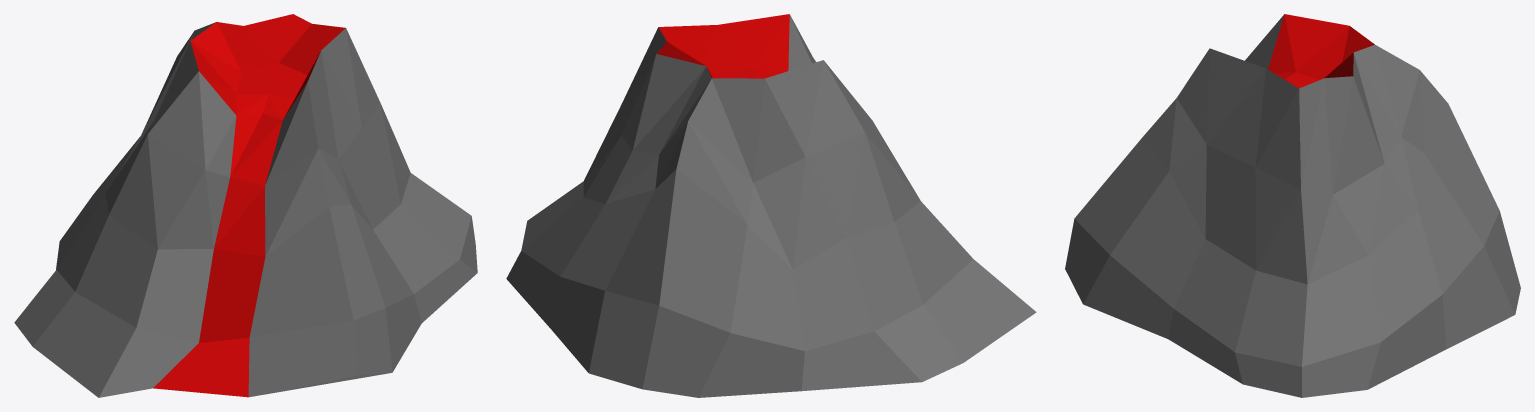
File: volcano.fbx
The picture shows the model from 3 angles, left to right: view 1: azimuth 30°, elevation 25°; view 2: azimuth 150°, elevation 25°; view 3: azimuth 270°, elevation 25°; orthographic projection. The views are drawn at different scales.
Visible parts, largest first — view 1: Volcano; view 2: Volcano; view 3: Volcano.
Part boxes in pixels (bbox=[...]): Volcano: bbox=[14, 14, 477, 397]; Volcano: bbox=[506, 14, 1036, 397]; Volcano: bbox=[1065, 14, 1520, 397].
Bounding box in the file's own units: 0.8459 × 0.4578 × 0.7682.
